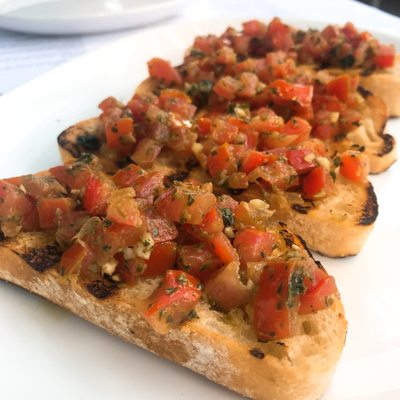curry: (0, 4, 400, 370)
sandwich: (0, 8, 390, 397)
